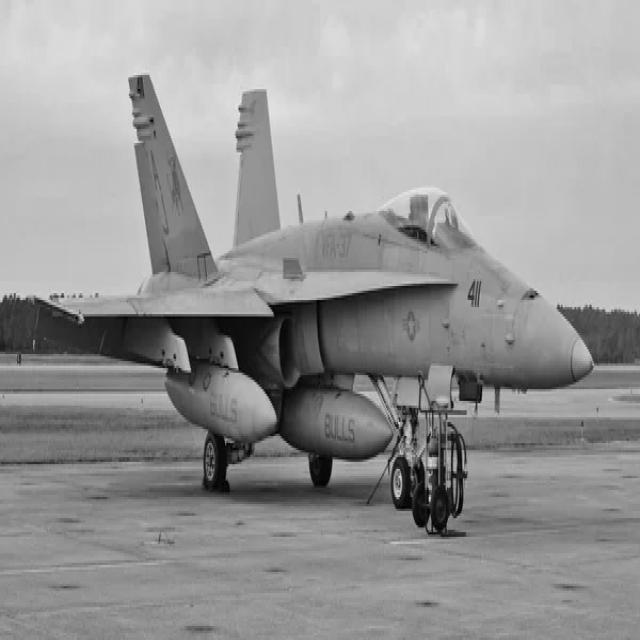Aircraft: (43, 67, 595, 522)
